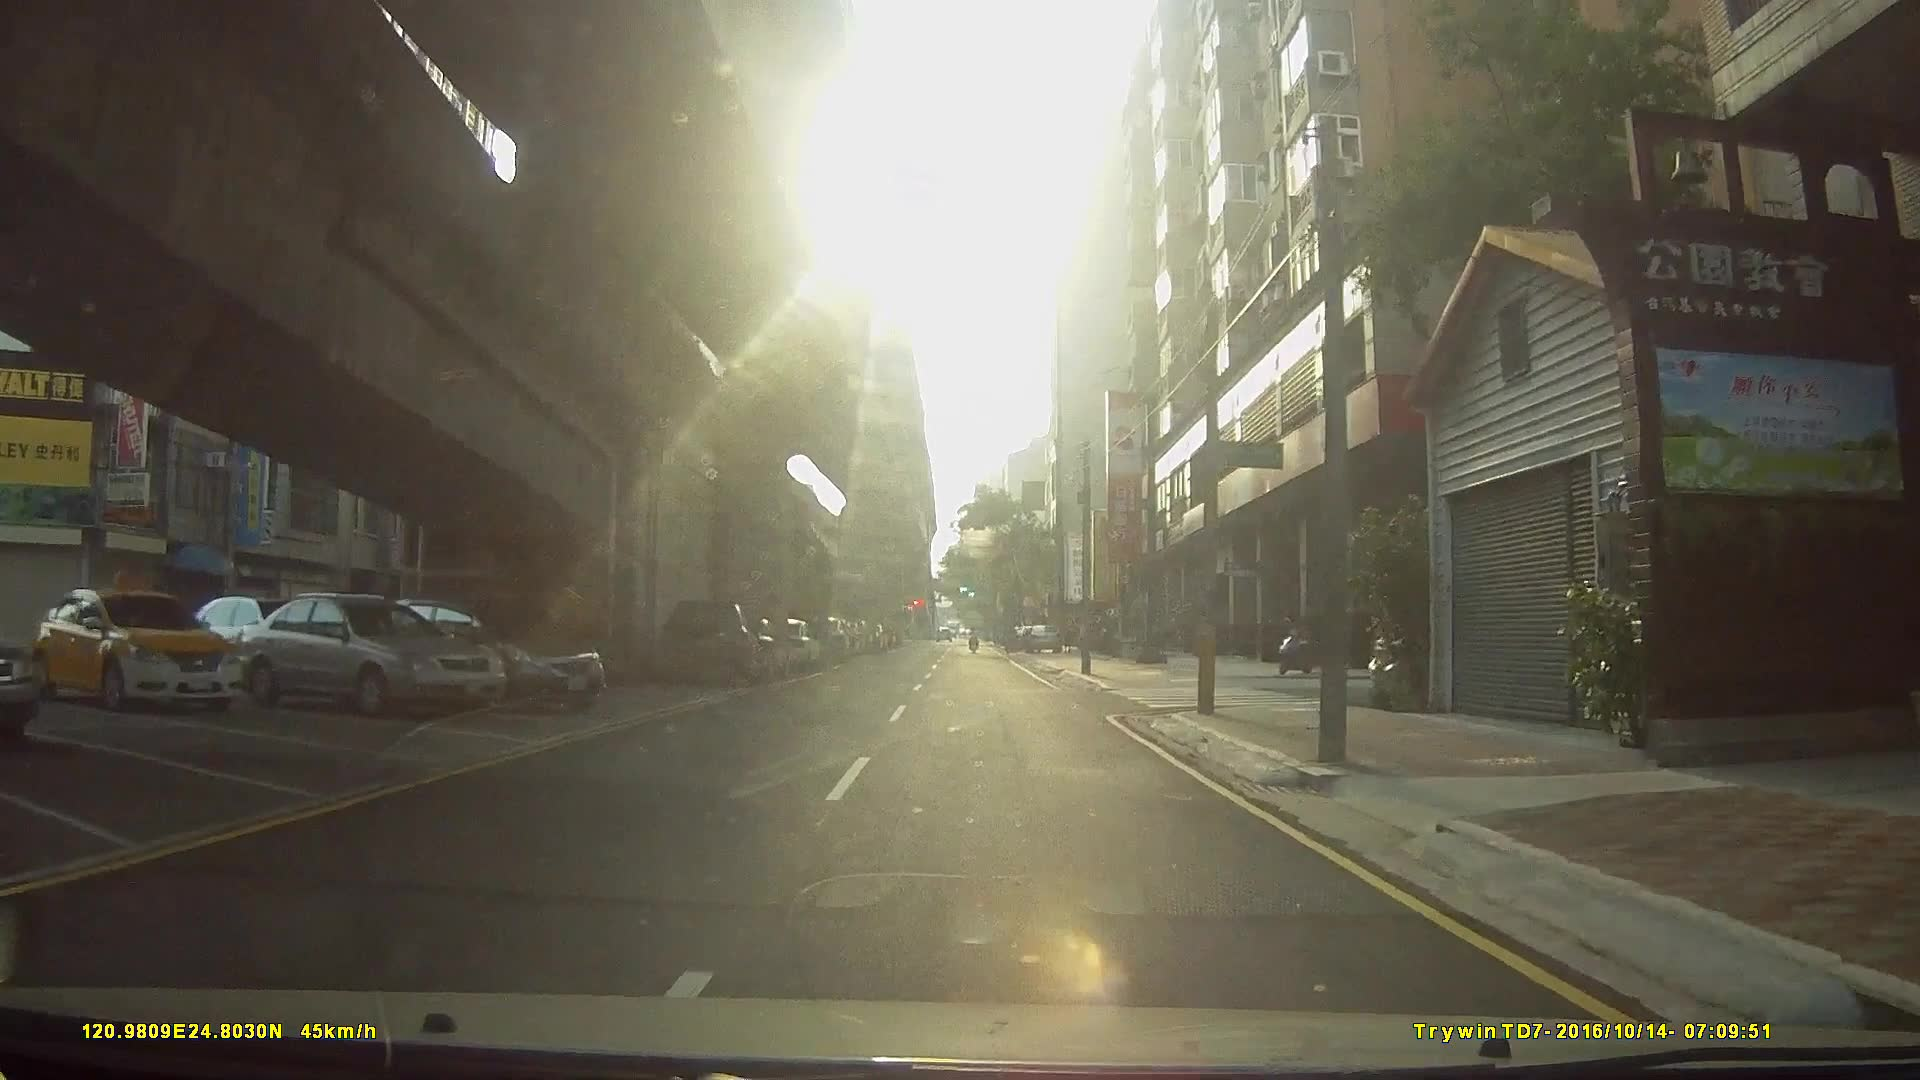vehicle: (232, 589, 506, 716), (359, 589, 608, 709), (30, 584, 239, 712), (653, 595, 761, 684)
